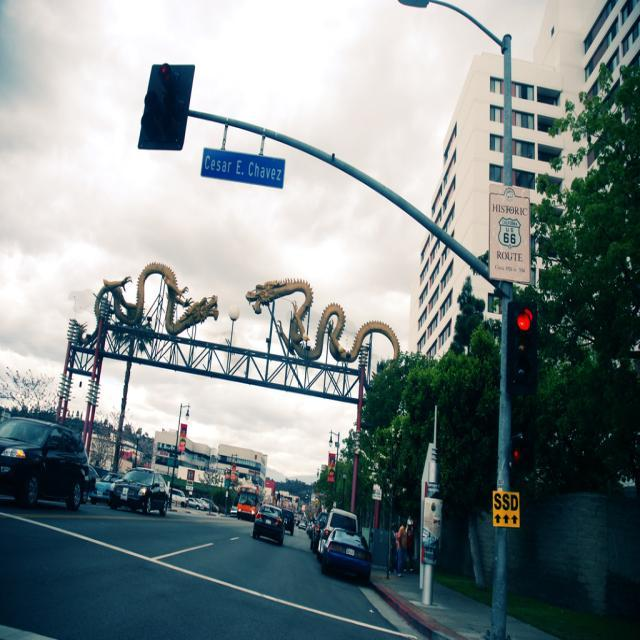off traffic light: (136, 53, 200, 153)
traffic light: (507, 300, 538, 396), (511, 439, 523, 473)
